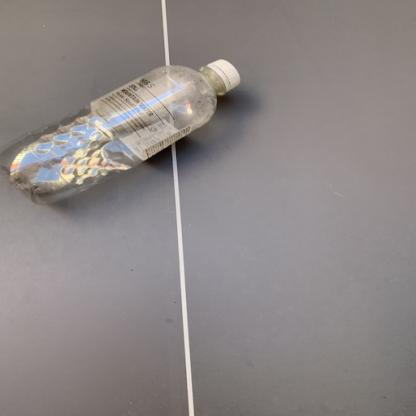trash: (0, 58, 240, 206)
